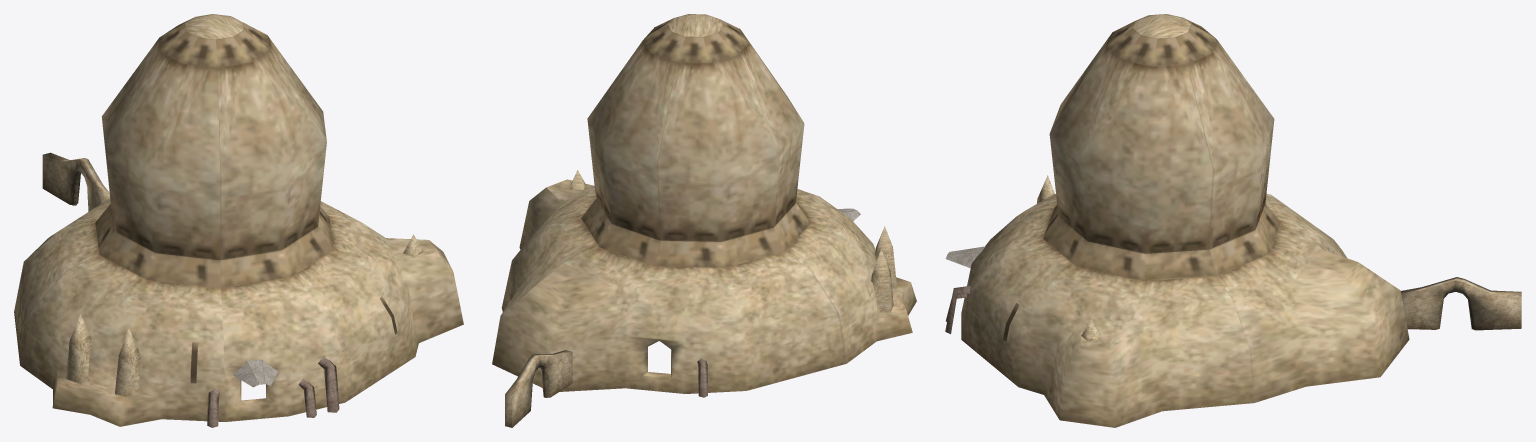
Rendered from thm_tato_watto_junkshop_r0_mesh_l3.fbx.
3 renders of one model, left to right at view 1: azimuth 30°, elevation 25°; view 2: azimuth 150°, elevation 25°; view 3: azimuth 270°, elevation 25°, orthographic. The views are drawn at different scales.
Parts seen in each view (by area): view 1: mesh_node; view 2: mesh_node; view 3: mesh_node.
Part boxes in pixels (x1,y1,x2,y2): mesh_node: [14, 14, 463, 427]; mesh_node: [492, 14, 916, 427]; mesh_node: [945, 14, 1521, 427].
Bounding box in the file's own units: 37.7 × 28 × 47.01.
